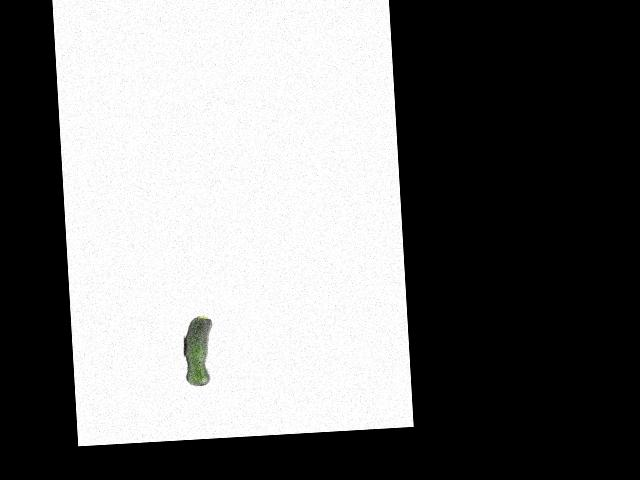cucumber: (182, 314, 215, 386)
